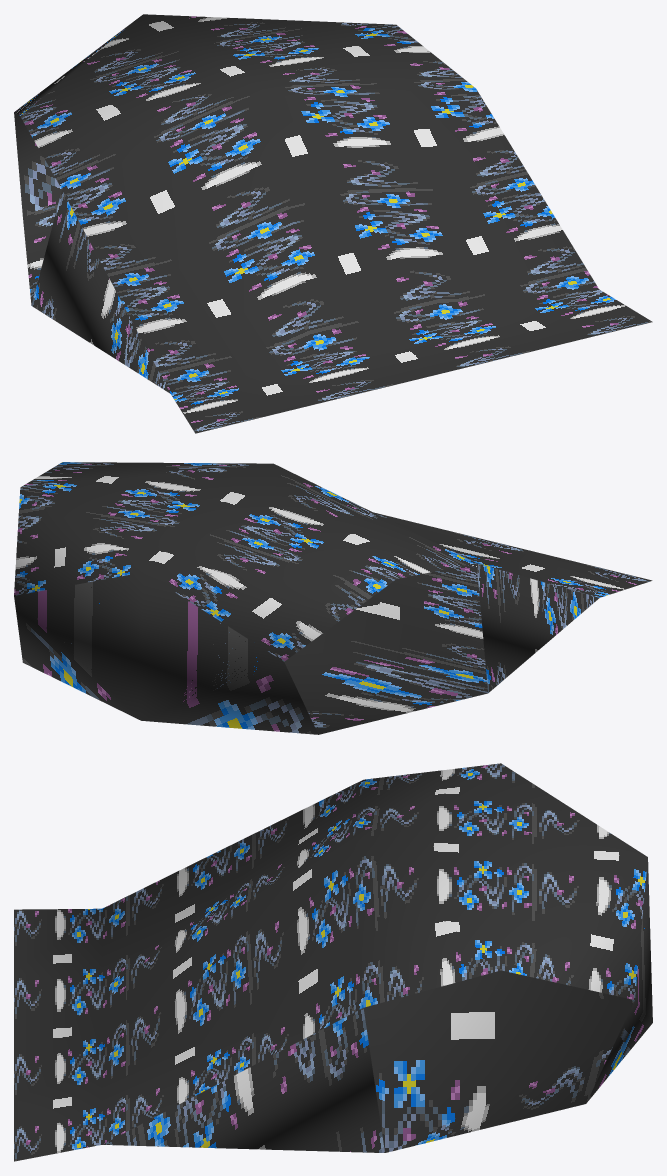
The model's file is 2562top000_c.gltf.
3 views of the same model, one above another, from view 1: azimuth 30°, elevation 25°; view 2: azimuth 150°, elevation 25°; view 3: azimuth 270°, elevation 25° (orthographic). The views are drawn at different scales.
Parts seen in each view (by area): view 1: 2562top000_c; view 2: 2562top000_c; view 3: 2562top000_c.
Boxes of the visible parts, box(x1,y1,x2,y2) form: 2562top000_c: box(14, 14, 652, 433); 2562top000_c: box(14, 462, 652, 734); 2562top000_c: box(14, 763, 652, 1161).
Size of the model in its own units: 0.7598 by 0.2717 by 0.814.
Materials: 1 (1 with a texture image).
